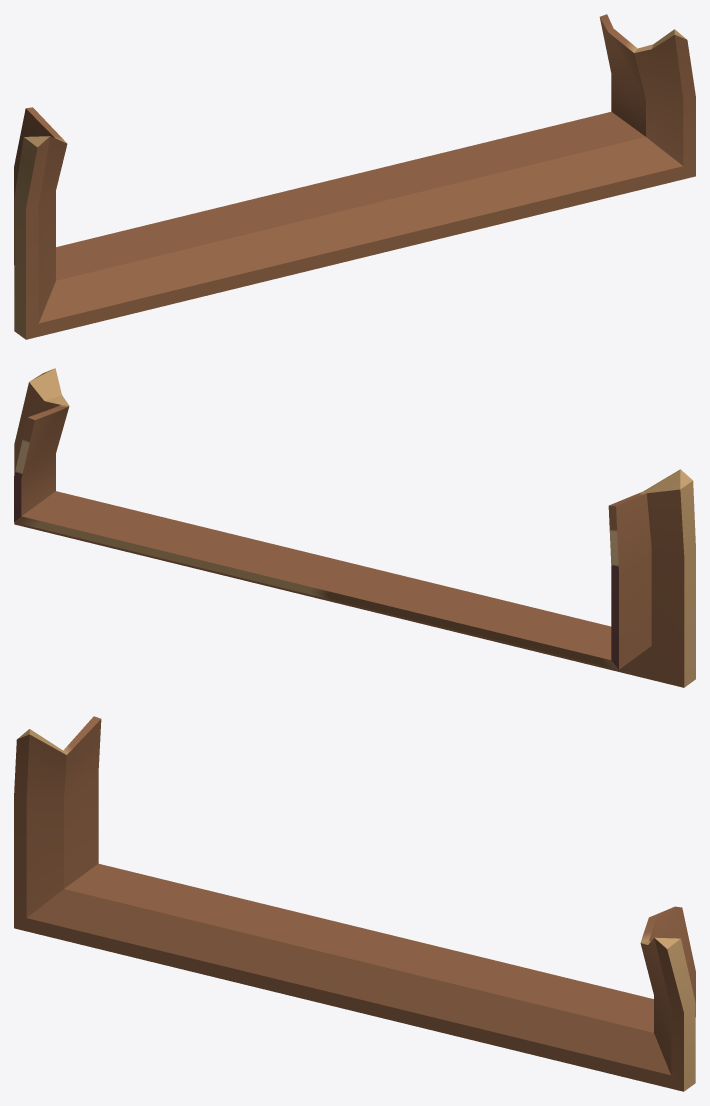
File: DBK_WinWide_Trim_C_Tile.fbx
3 views of the same model, one above another, from view 1: azimuth 30°, elevation 25°; view 2: azimuth 150°, elevation 25°; view 3: azimuth 330°, elevation 25° (orthographic).
Parts seen in each view (by area): view 1: DBK_WinWide_Trim_C_Tile; view 2: DBK_WinWide_Trim_C_Tile; view 3: DBK_WinWide_Trim_C_Tile.
Part boxes in pixels (<box>): DBK_WinWide_Trim_C_Tile: <box>14,14,695,339</box>; DBK_WinWide_Trim_C_Tile: <box>14,368,695,687</box>; DBK_WinWide_Trim_C_Tile: <box>14,716,695,1091</box>.
Bounding box in the file's own units: 180 × 51.88 × 22.78.
